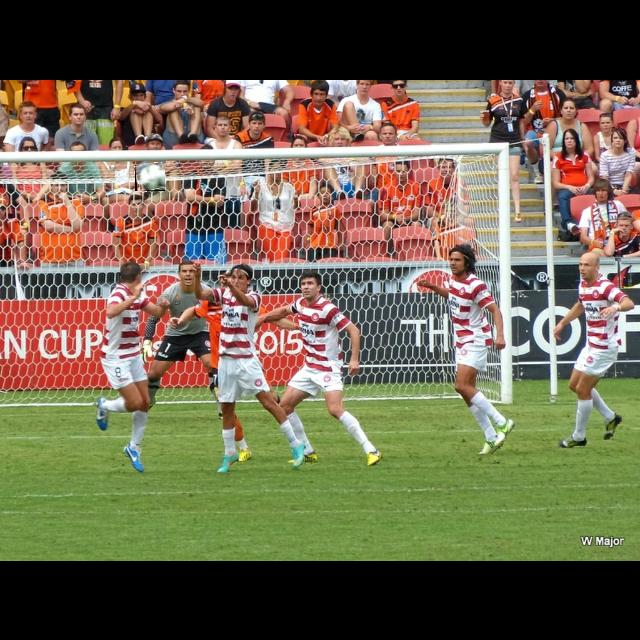Football: (135, 163, 165, 191)
